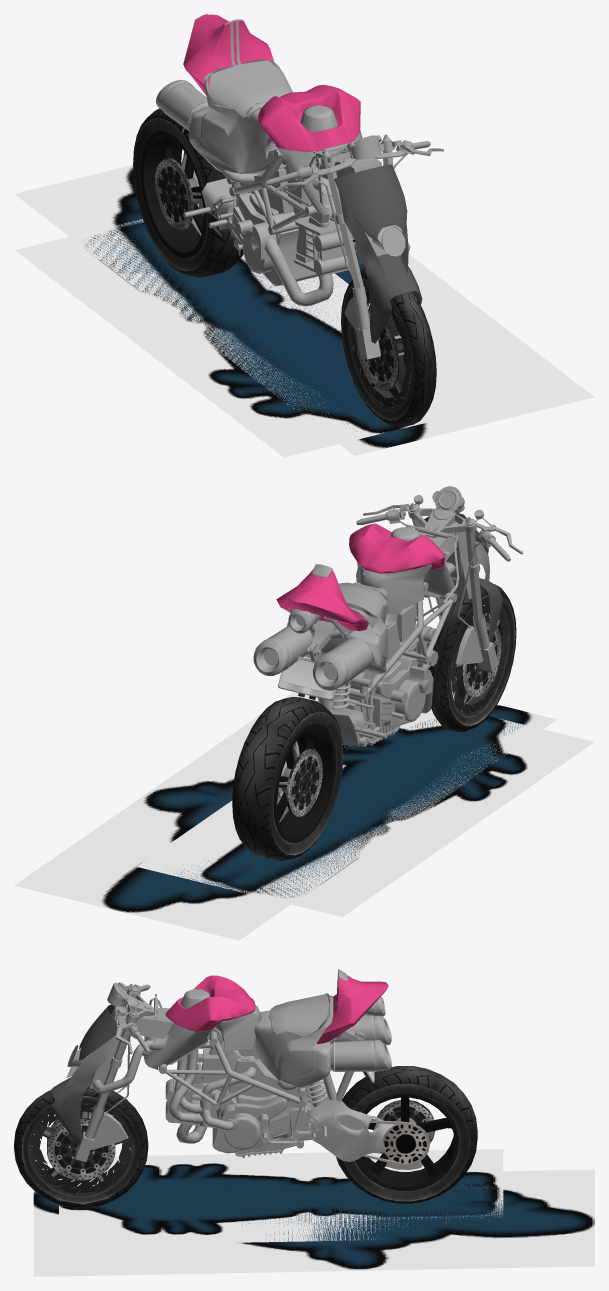
Rendered from bike10_25.fbx.
The picture shows the model from 3 angles, top to bottom: view 1: azimuth 30°, elevation 25°; view 2: azimuth 150°, elevation 25°; view 3: azimuth 270°, elevation 25°; orthographic projection. The views are drawn at different scales.
Parts seen in each view (by area): view 1: Shadow_DayLight, Shadow_SunSet, Reflection_AI, Body_AI, Lights_AI, Chrome_AI, Rim_B, SteeringBody_AI, Tyre_F, Tyre_B, Rim_F; view 2: Shadow_DayLight, Shadow_SunSet, Reflection_AI, Chrome_AI, Tyre_B, Lights_AI, Body_AI, Rim_B, Tyre_F, Rim_F, Plate, SteeringBody_AI; view 3: Shadow_SunSet, Shadow_DayLight, Reflection_AI, Chrome_AI, Tyre_B, Rim_B, Lights_AI, Rim_F, Body_AI, Tyre_F, SteeringBody_AI.
Boxes of the visible parts, x1,y1,x2,y2 form: Shadow_DayLight: [15, 219, 503, 457]; Shadow_SunSet: [14, 152, 594, 455]; Reflection_AI: [162, 20, 362, 285]; Body_AI: [183, 14, 360, 151]; Lights_AI: [266, 134, 443, 359]; Chrome_AI: [155, 19, 410, 306]; Rim_B: [140, 130, 207, 258]; SteeringBody_AI: [334, 164, 422, 343]; Tyre_F: [341, 269, 436, 427]; Tyre_B: [133, 108, 243, 277]; Rim_F: [349, 288, 411, 410]; Shadow_DayLight: [137, 708, 594, 916]; Shadow_SunSet: [14, 692, 557, 940]; Reflection_AI: [264, 526, 462, 804]; Chrome_AI: [253, 524, 457, 799]; Tyre_B: [232, 697, 343, 860]; Lights_AI: [356, 486, 523, 671]; Body_AI: [276, 523, 445, 630]; Rim_B: [273, 723, 336, 842]; Tyre_F: [428, 584, 516, 732]; Rim_F: [450, 601, 508, 715]; Plate: [278, 656, 336, 700]; SteeringBody_AI: [424, 513, 502, 642]; Shadow_SunSet: [33, 1169, 594, 1276]; Shadow_DayLight: [59, 1149, 503, 1245]; Reflection_AI: [135, 973, 429, 1169]; Chrome_AI: [92, 969, 396, 1161]; Tyre_B: [336, 1066, 477, 1203]; Rim_B: [355, 1093, 458, 1190]; Lights_AI: [66, 982, 154, 1162]; Rim_F: [29, 1102, 132, 1195]; Body_AI: [165, 974, 388, 1043]; Tyre_F: [14, 1084, 148, 1207]; SteeringBody_AI: [51, 1004, 119, 1144].
Size of the model in its own units: 126 by 117 by 261.
